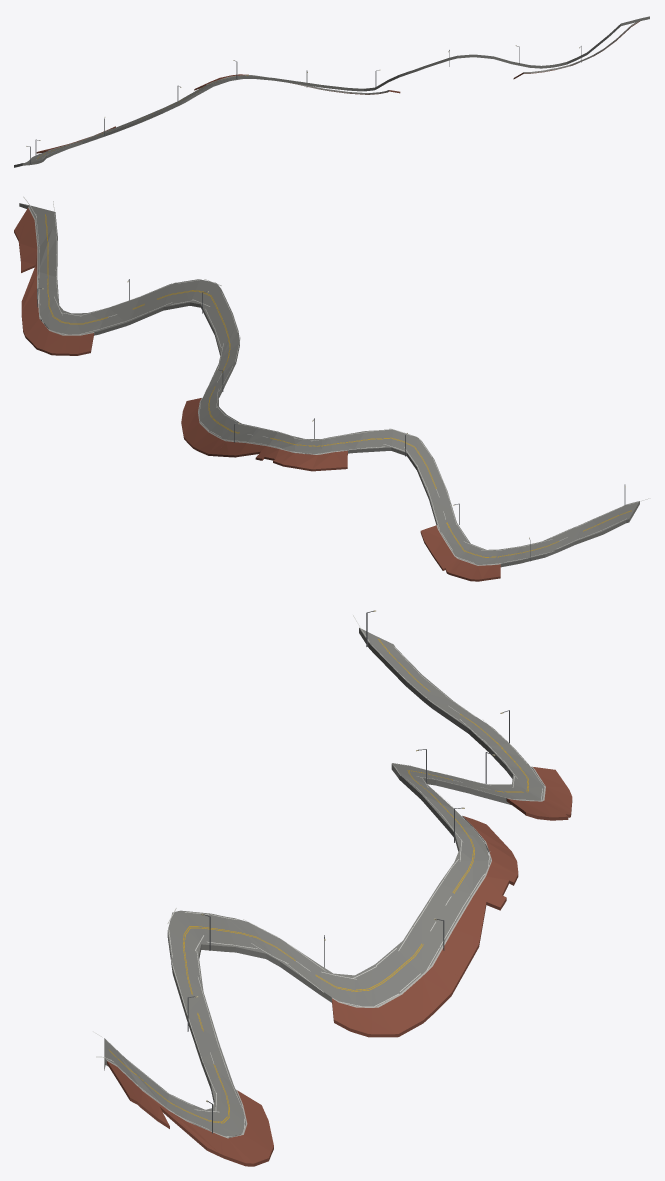
The picture shows the model from 3 angles, top to bottom: view 1: azimuth 30°, elevation 25°; view 2: azimuth 150°, elevation 25°; view 3: azimuth 270°, elevation 25°; orthographic projection. The views are drawn at different scales.
Size of the model in its own units: 262 by 47 by 95.24.
